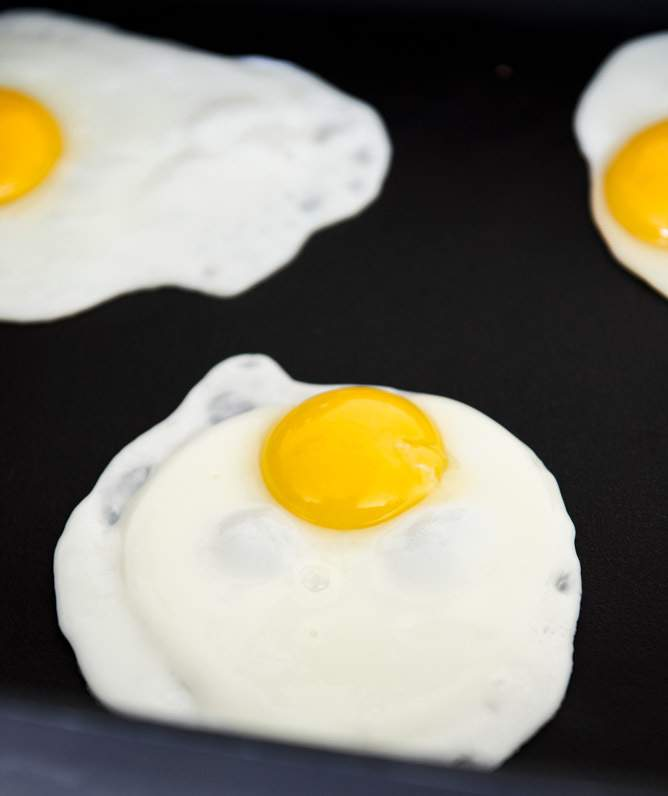fried egg: (81, 406, 546, 700), (25, 62, 288, 269)
